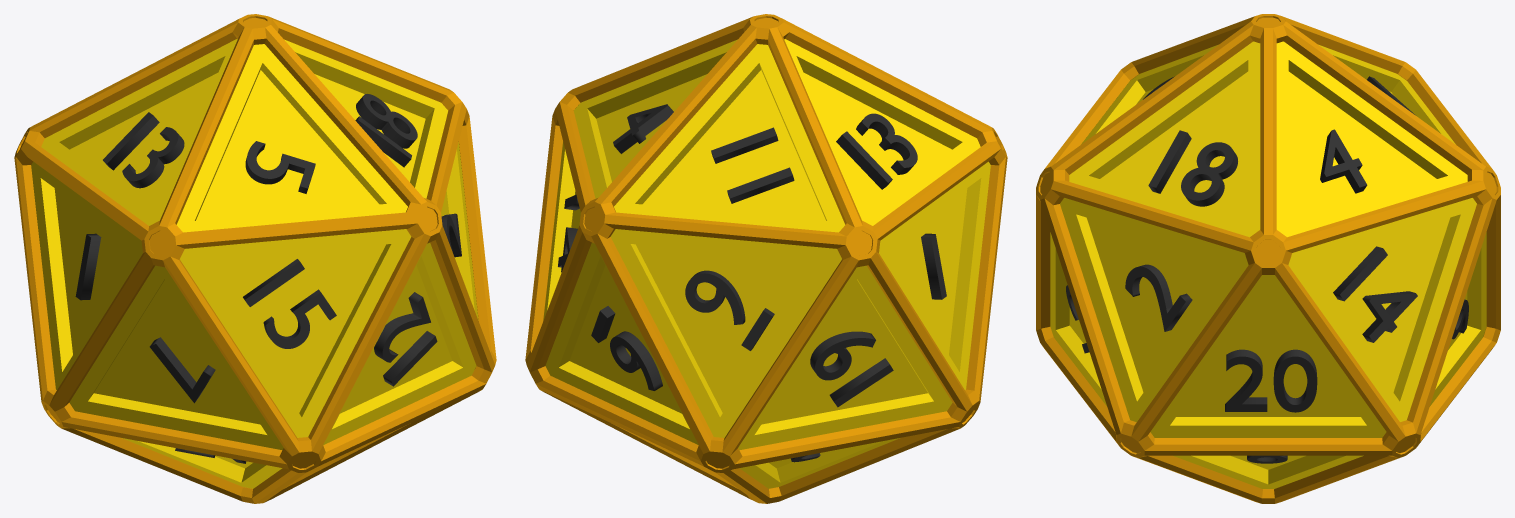
File: DADO.glb
3 views of the same model, side by side, from view 1: azimuth 30°, elevation 25°; view 2: azimuth 150°, elevation 25°; view 3: azimuth 270°, elevation 25° (orthographic).
Parts seen in each view (by area): view 1: d20 die, d20 outline, 13, 18, 12, 15, 5, 7, 1, 2; view 2: d20 die, d20 outline, 19, 13, 11, 9, 6, 4, 1, 14, 9 underscore, 6 underscore; view 3: d20 die, d20 outline, 20, 18, 14, 2, 4.
Part boxes in pixels (left/top/right/bottom): d20 die: left=31, top=39, right=478, bottom=488; d20 outline: left=14, top=14, right=496, bottom=503; 13: left=103, top=112, right=184, bottom=188; 18: left=355, top=94, right=417, bottom=167; 12: left=374, top=292, right=437, bottom=386; 15: left=243, top=259, right=336, bottom=348; 5: left=245, top=141, right=315, bottom=193; 7: left=149, top=337, right=215, bottom=403; 1: left=75, top=233, right=101, bottom=300; 2: left=441, top=213, right=461, bottom=257; d20 die: left=543, top=39, right=990, bottom=488; d20 outline: left=525, top=14, right=1007, bottom=503; 19: left=810, top=331, right=893, bottom=407; 13: left=836, top=113, right=917, bottom=189; 11: left=711, top=127, right=794, bottom=203; 9: left=685, top=270, right=745, bottom=324; 6: left=610, top=331, right=662, bottom=390; 4: left=613, top=104, right=673, bottom=153; 1: left=921, top=233, right=946, bottom=299; 14: left=558, top=194, right=579, bottom=272; 9 underscore: left=741, top=308, right=774, bottom=350; 6 underscore: left=591, top=306, right=615, bottom=342; d20 die: left=1050, top=41, right=1486, bottom=488; d20 outline: left=1036, top=14, right=1500, bottom=503; 20: left=1225, top=349, right=1317, bottom=412; 18: left=1148, top=130, right=1237, bottom=206; 14: left=1333, top=246, right=1417, bottom=342; 2: left=1125, top=264, right=1192, bottom=331; 4: left=1320, top=129, right=1367, bottom=193.
Bounding box in the file's own units: 1.87 × 2.03 × 1.79.
